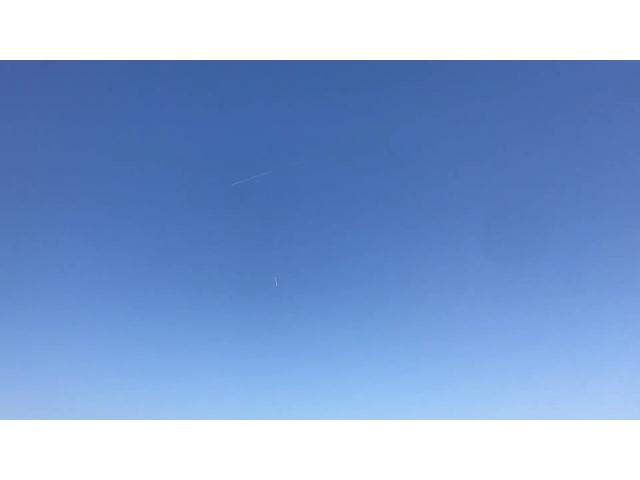Anti-Drone: (268, 268, 284, 290)
